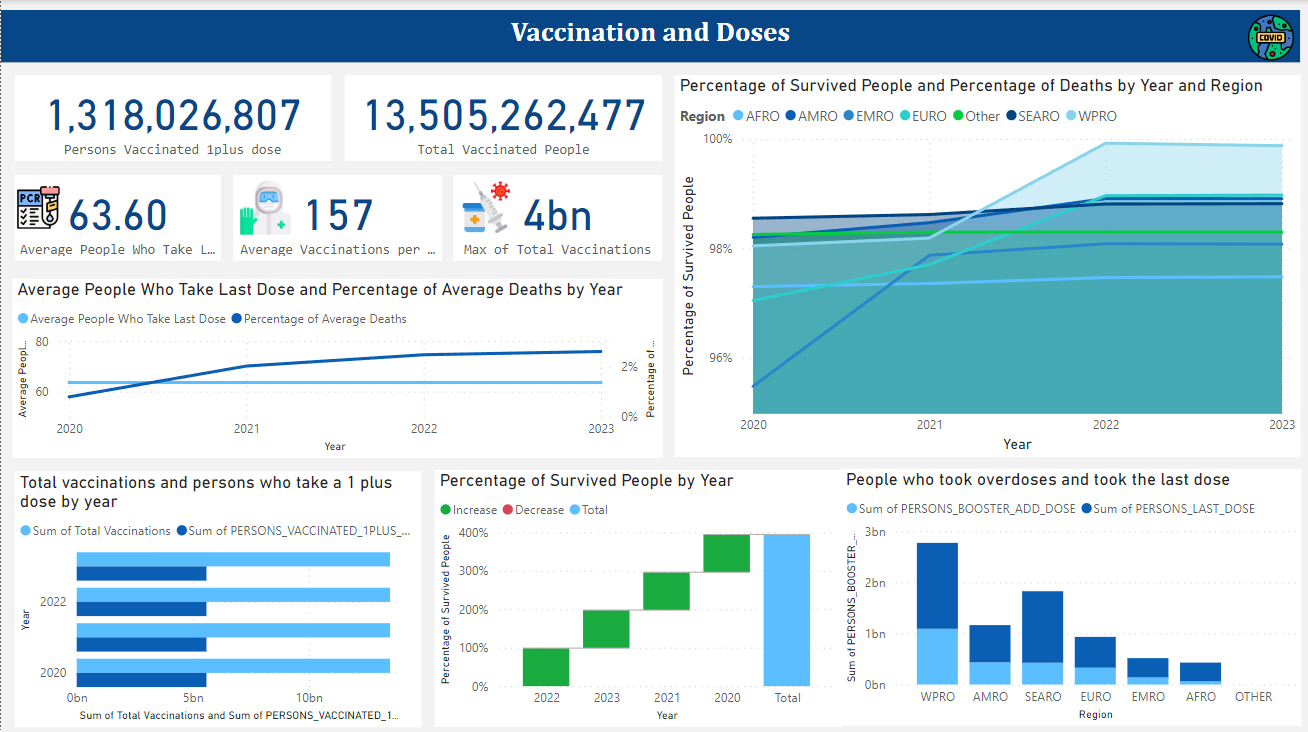

The dashboard page shown, as its layout file describes it:
{"tool":"powerbi","page":{"name":"Vaccineation and Doses","canvas":[1280,720],"ordinal":2},"visuals":[{"type":"waterfallChart","fields":{"Y":["Calculations.Percentage of Survived People"],"Category":["DimWho_COVIDE_19_global_data.Year"]},"box":[423.8,459.3,397.5,251.4],"z":0},{"type":"textbox","box":[13.4,9.8,1256.6,51.3],"z":1000},{"type":"card","fields":{"Values":["Calculations.Persons Vaccinated 1plus dose"]},"box":[13.2,73.7,309.3,84.2],"z":2000},{"type":"card","fields":{"Values":["Avg(FactVaccination-data.TOTAL_VACCINATIONS_PER100)"]},"box":[227.7,171.1,204,84.2],"z":3000},{"type":"card","fields":{"Values":["Sum(FactVaccination-data.Total Vaccinations)"]},"box":[335.6,73.7,310.6,84.2],"z":4000},{"type":"areaChart","fields":{"Series":["DimWho_COVIDE_19_global_data.Region"],"Y":["Calculations.Percentage of Survived People"],"Category":["DimWho_COVIDE_19_global_data.Year"]},"box":[659.4,73.7,612,373.8],"z":5000},{"type":"card","fields":{"Values":["Calculations.Average People Who Take Last Dose"]},"box":[13.2,171.1,201.4,84.2],"z":7000},{"type":"lineChart","fields":{"Y":["Calculations.Average People Who Take Last Dose"],"Y2":["Calculations.Average Death"],"Category":["DimWho_COVIDE_19_global_data.Year"]},"box":[10.5,272.4,635.7,175],"z":8000},{"type":"clusteredBarChart","title":"Total vaccinations and persons who take a 1 plus dose by year","fields":{"Category":["DimWho_COVIDE_19_global_data.Year"],"Y":["Sum(FactVaccination-data.Total Vaccinations)","Sum(FactVaccination-data.PERSONS_VACCINATED_1PLUS_DOSE)"]},"box":[13.2,460.6,397.5,250.1],"z":9000},{"type":"card","fields":{"Values":["Max(FactVaccination-data.Total Vaccinations)"]},"box":[442.2,171.1,204,84.2],"z":9001},{"type":"columnChart","title":"People who took overdoses and took the last dose","fields":{"Y":["Sum(FactVaccination-data.PERSONS_BOOSTER_ADD_DOSE)","Sum(FactVaccination-data.PERSONS_LAST_DOSE)"],"Category":["FactVaccination-data.Region"]},"box":[821,459,450,251],"z":9002}]}

Visuals, with their boxes in screenshot pixels (x1, y1, x2, y2), scaled from the page's 1280x720 canvas onto the 1308x732 screenshot:
waterfallChart - Calculations.Percentage of Survived People x DimWho_COVIDE_19_global_data.Year: 433/467/839/723
textbox: 14/10/1298/62
card - Calculations.Persons Vaccinated 1plus dose: 13/75/330/161
card - Avg(FactVaccination-data.TOTAL_VACCINATIONS_PER100): 233/174/441/260
card - Sum(FactVaccination-data.Total Vaccinations): 343/75/660/161
areaChart - DimWho_COVIDE_19_global_data.Region x Calculations.Percentage of Survived People: 674/75/1299/455
card - Calculations.Average People Who Take Last Dose: 13/174/219/260
lineChart - Calculations.Average People Who Take Last Dose x Calculations.Average Death: 11/277/660/455
"Total vaccinations and persons who take a 1 plus dose by year" clusteredBarChart: 13/468/420/723
card - Max(FactVaccination-data.Total Vaccinations): 452/174/660/260
"People who took overdoses and took the last dose" columnChart: 839/467/1299/722
